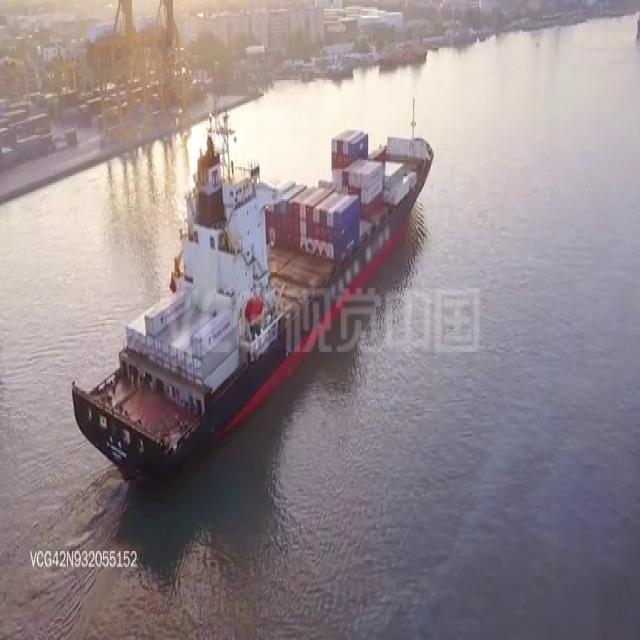cargoship: (64, 120, 431, 484)
